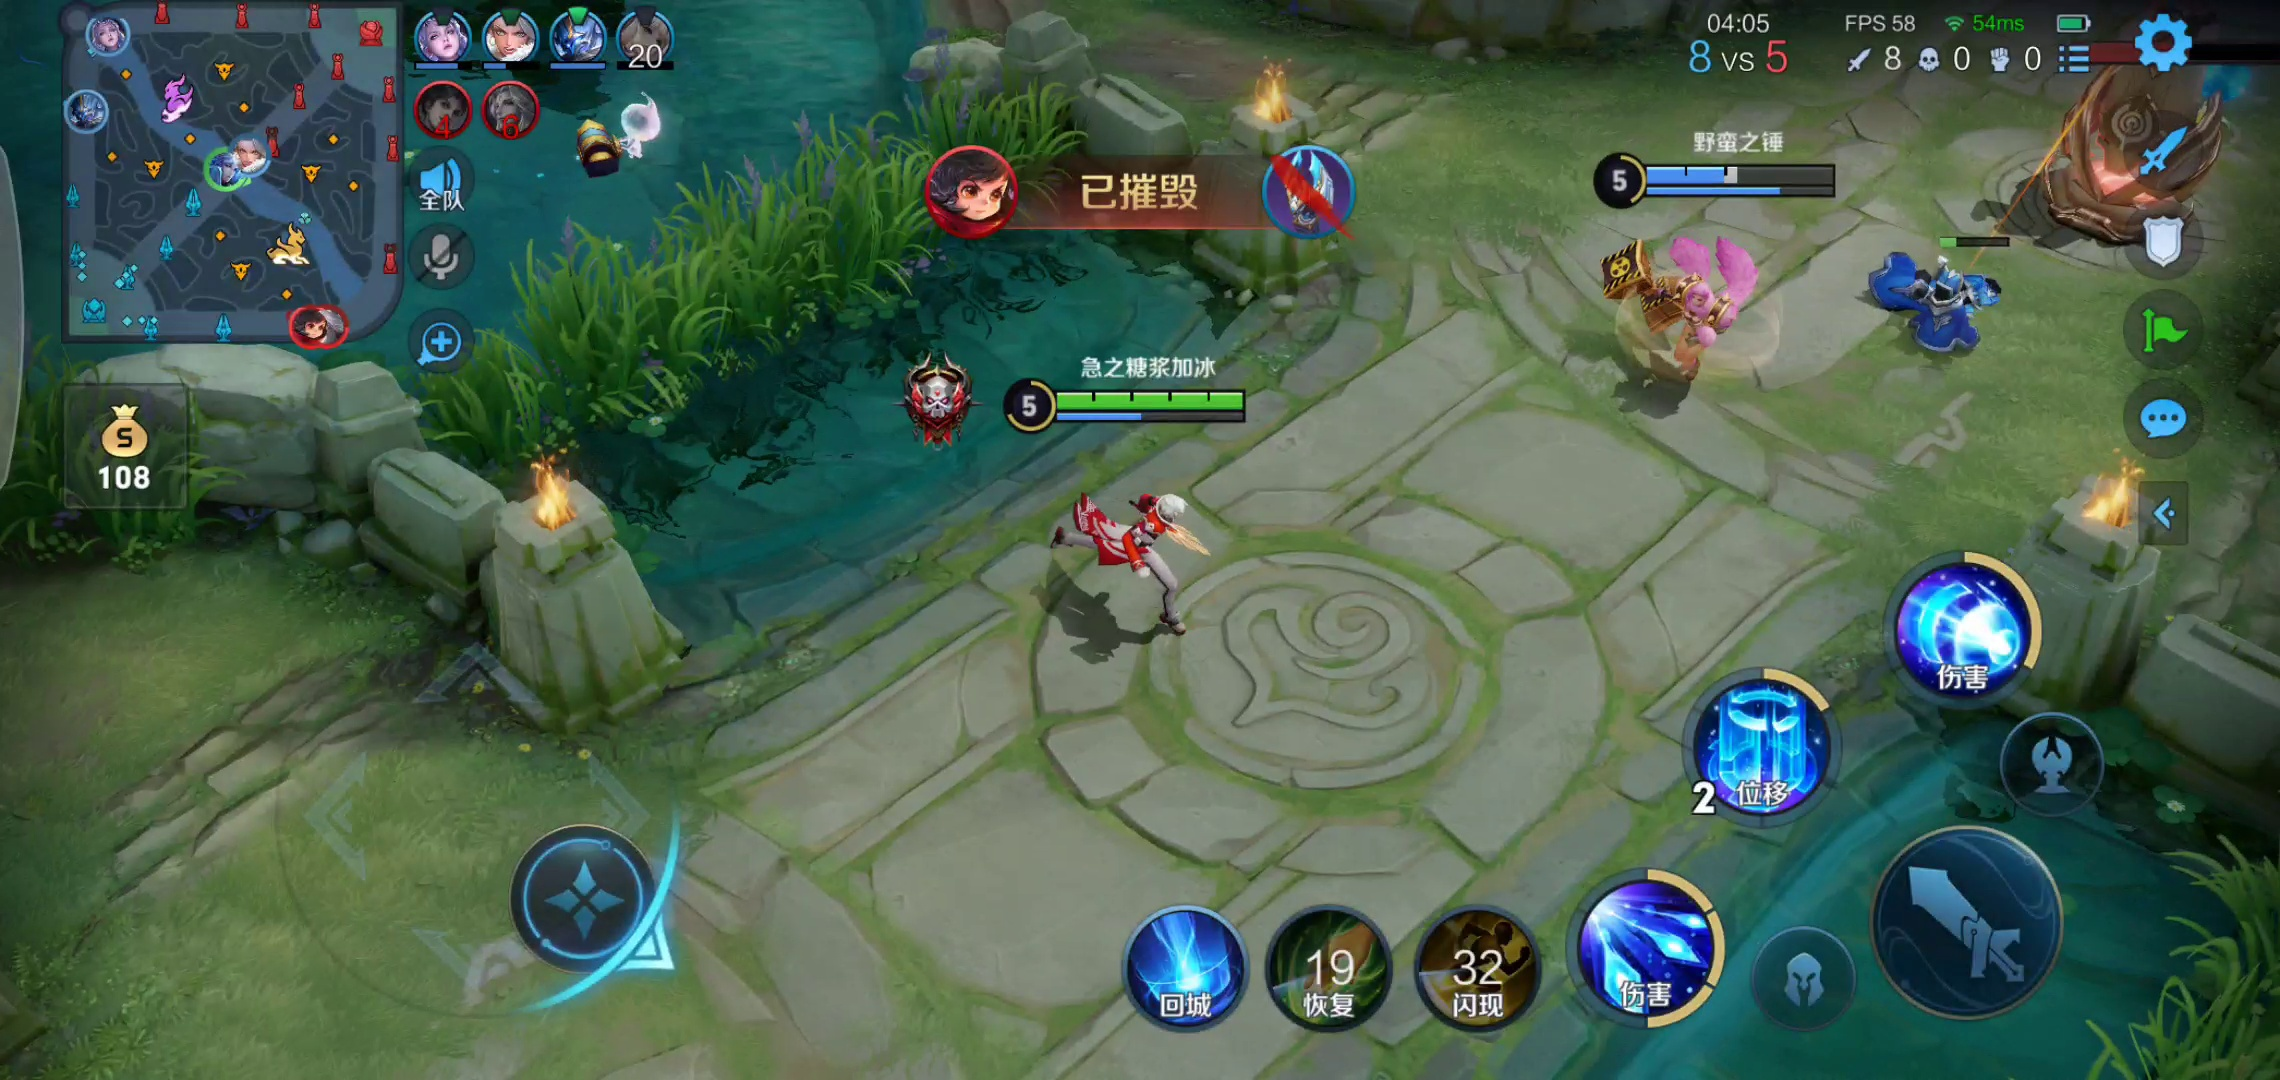grass: (470, 126, 1077, 449), (17, 387, 252, 567), (2116, 846, 2268, 1080)
hero: (1599, 231, 1794, 404), (1035, 470, 1224, 637)
soldier: (1858, 235, 2042, 363)
tower: (2015, 38, 2242, 249)
